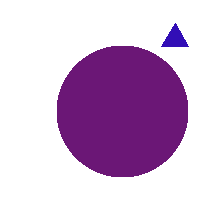circle: (57, 46, 187, 176)
triangle: (161, 23, 188, 46)
